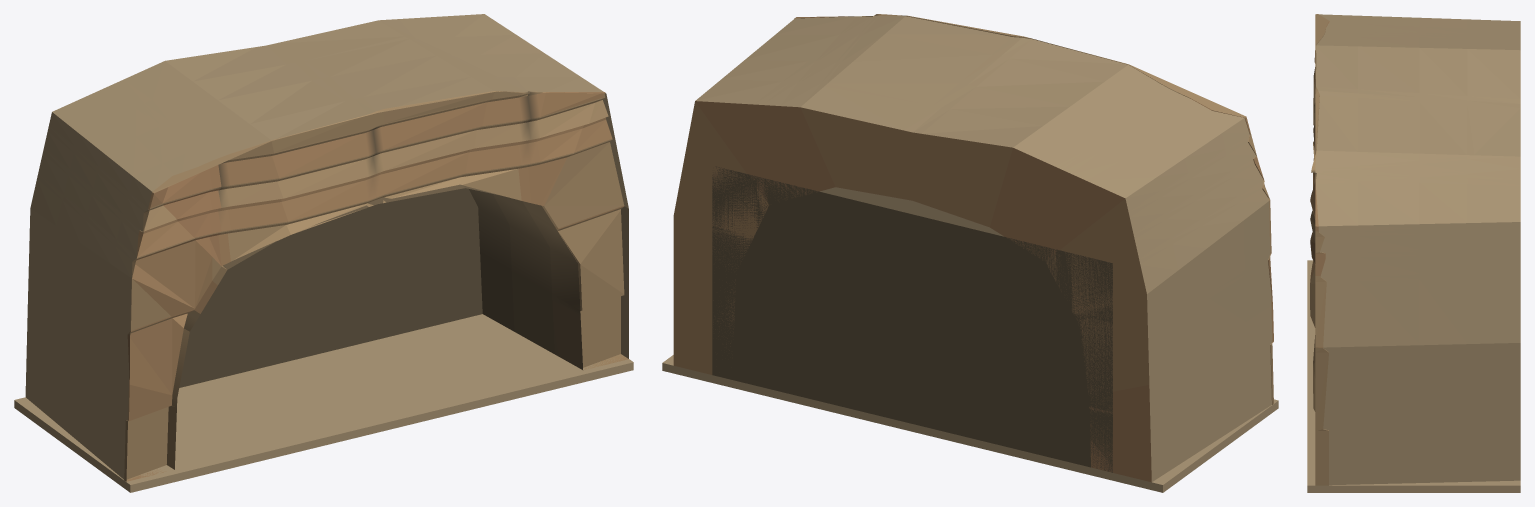
File: alcove.glb
3 renders of one model, left to right at view 1: azimuth 30°, elevation 25°; view 2: azimuth 150°, elevation 25°; view 3: azimuth 270°, elevation 25°, orthographic. The views are drawn at different scales.
Visible parts, largest first — view 1: alcove_rock, alcove_floor, alcove_recess_back; view 2: alcove_rock, alcove_recess_back, alcove_floor; view 3: alcove_rock, alcove_floor.
Boxes of the visible parts, left/top/right/bottom form: alcove_rock: left=25, top=14, right=628, bottom=481; alcove_floor: left=14, top=314, right=633, bottom=492; alcove_recess_back: left=179, top=188, right=482, bottom=387; alcove_rock: left=673, top=14, right=1273, bottom=482; alcove_recess_back: left=712, top=166, right=1112, bottom=472; alcove_floor: left=662, top=355, right=1278, bottom=492; alcove_rock: left=1310, top=14, right=1520, bottom=485; alcove_floor: left=1307, top=260, right=1520, bottom=492.
Size of the model in its own units: 20 by 12 by 8.
